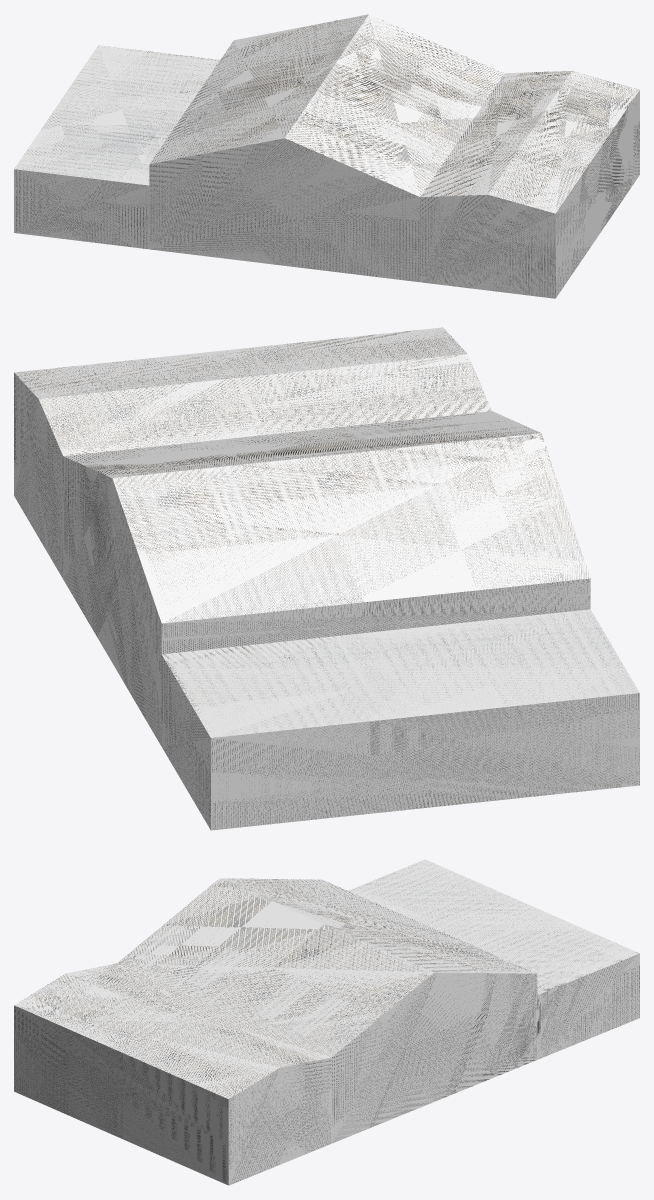
Rendered from techniTripleHangar.dae.
3 renders of one model, top to bottom at view 1: azimuth 30°, elevation 25°; view 2: azimuth 150°, elevation 25°; view 3: azimuth 270°, elevation 25°, orthographic. The views are drawn at different scales.
Parts seen in each view (by area): view 1: SketchUp (×3); view 2: SketchUp (×3); view 3: SketchUp (×3).
Boxes of the visible parts, <box> form: SketchUp (×3): <box>14,14,639,298</box>; SketchUp (×3): <box>14,327,639,830</box>; SketchUp (×3): <box>14,859,639,1185</box>.
Size of the model in its own units: 1024 by 1035 by 236.
Materials: 3 (2 with a texture image).
